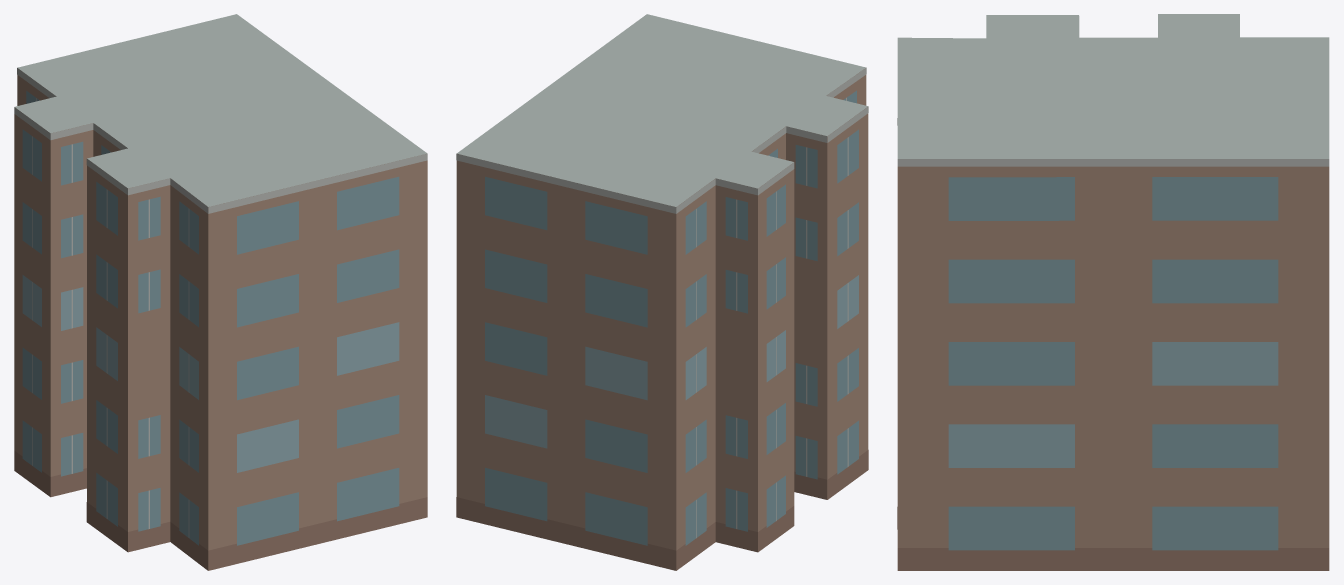
Rendered from survey-upis-32985379.glb.
3 renders of one model, left to right at view 1: azimuth 30°, elevation 25°; view 2: azimuth 150°, elevation 25°; view 3: azimuth 270°, elevation 25°, orthographic. The views are drawn at different scales.
Parts seen in each view (by area): view 1: survey-upis-32985379.tmp; view 2: survey-upis-32985379.tmp; view 3: survey-upis-32985379.tmp.
Part boxes in pixels (x1,y1,x2,y2): survey-upis-32985379.tmp: [14, 14, 427, 570]; survey-upis-32985379.tmp: [456, 14, 868, 570]; survey-upis-32985379.tmp: [897, 14, 1329, 570].
Bounding box in the file's own units: 9.74 × 12.9 × 12.27.
